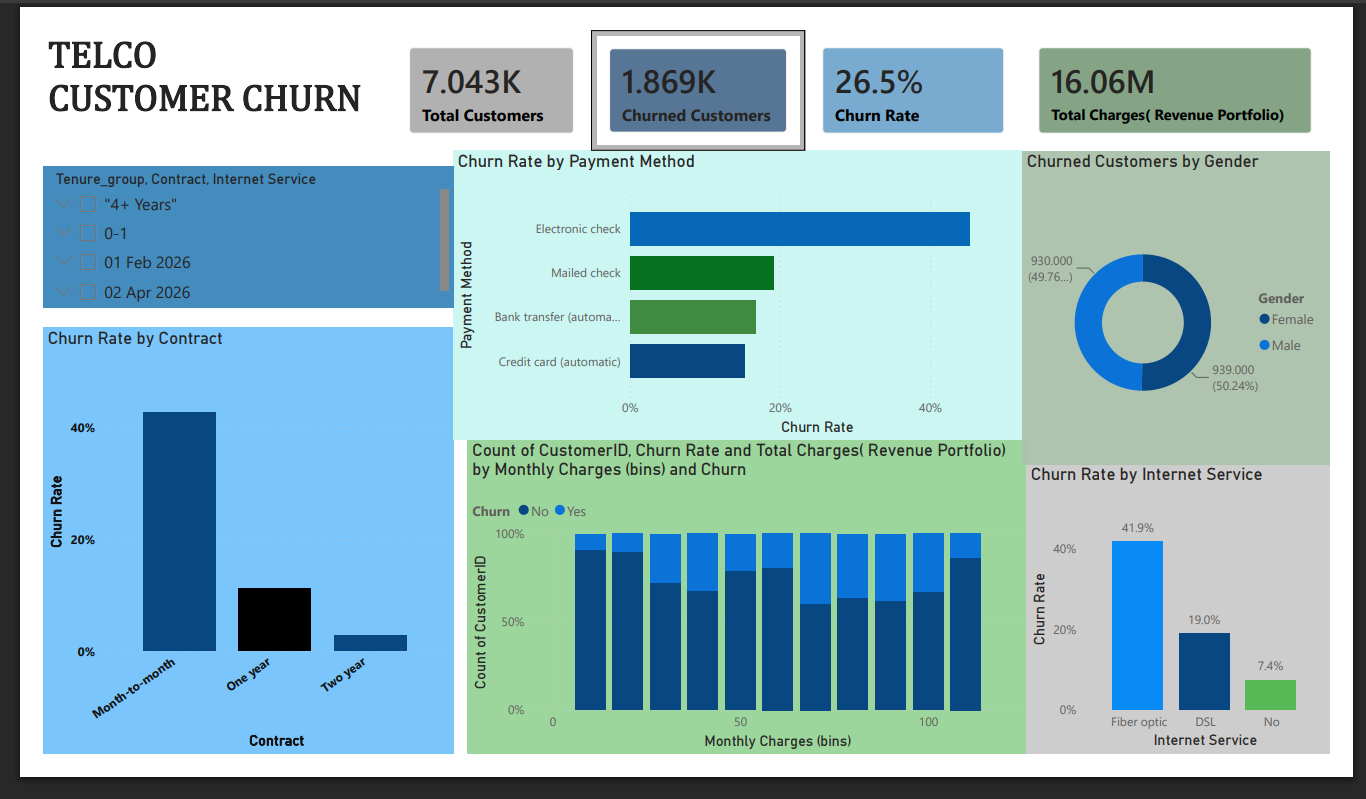

The dashboard page shown, as its layout file describes it:
{"tool":"powerbi","page":{"name":"Page 1","canvas":[1280,720],"ordinal":0},"visuals":[{"type":"cardVisual","fields":{"Data":["Telco Data.Total Customers"]},"box":[346.7,0,198.3,120],"z":0},{"type":"cardVisual","fields":{"Data":["Telco Data.Churn Rate"]},"box":[758.3,0,215,120],"z":1000},{"type":"cardVisual","fields":{"Data":["Telco Data.Total Charges( Revenue Portfolio)"]},"box":[973.3,0,306.7,120],"z":2000},{"type":"clusteredColumnChart","fields":{"Category":["Telco Data.Internet Service"],"Y":["Telco Data.Churn Rate"]},"box":[978,432,302,288],"z":3000},{"type":"hundredPercentStackedColumnChart","fields":{"Category":["Telco Data.Monthly Charges (bins)"],"Series":["Telco Data.Churn"],"Y":["CountNonNull(Telco Data.CustomerID)"]},"box":[422,408,556,312],"z":4000},{"type":"donutChart","fields":{"Category":["Telco Data.Gender"],"Y":["Telco Data.Churned Customers"]},"box":[974,120,306,312],"z":5000},{"type":"clusteredColumnChart","fields":{"Category":["Telco Data.Contract"],"Y":["Telco Data.Churn Rate"]},"box":[0,297.1,408.4,423.1],"z":6000},{"type":"clusteredBarChart","fields":{"Category":["Telco Data.Payment Method"],"Y":["Telco Data.Churn Rate"]},"box":[408,120,566,288],"z":7000},{"type":"slicer","fields":{"Values":["Telco Data.Tenure_group","Telco Data.Contract","Telco Data.Internet Service"]},"box":[0,134.5,408.4,162.6],"z":8000},{"type":"cardVisual","fields":{"Data":["Telco Data.Churned Customers"]},"box":[545,0,213.3,120],"z":9000},{"type":"textbox","box":[0,0,346,134],"z":10000}]}

Visuals, with their boxes on the page's 1280x720 design canvas (x1, y1, x2, y2). These are canvas units, not pixel positions in the 1366x799 screenshot, which may show the page scaled, cropped or inside an application window:
cardVisual - Telco Data.Total Customers: {"x1": 347, "y1": 0, "x2": 545, "y2": 120}
cardVisual - Telco Data.Churn Rate: {"x1": 758, "y1": 0, "x2": 973, "y2": 120}
cardVisual - Telco Data.Total Charges( Revenue Portfolio): {"x1": 973, "y1": 0, "x2": 1280, "y2": 120}
clusteredColumnChart - Telco Data.Internet Service x Telco Data.Churn Rate: {"x1": 978, "y1": 432, "x2": 1280, "y2": 720}
hundredPercentStackedColumnChart - Telco Data.Monthly Charges (bins) x Telco Data.Churn: {"x1": 422, "y1": 408, "x2": 978, "y2": 720}
donutChart - Telco Data.Gender x Telco Data.Churned Customers: {"x1": 974, "y1": 120, "x2": 1280, "y2": 432}
clusteredColumnChart - Telco Data.Contract x Telco Data.Churn Rate: {"x1": 0, "y1": 297, "x2": 408, "y2": 720}
clusteredBarChart - Telco Data.Payment Method x Telco Data.Churn Rate: {"x1": 408, "y1": 120, "x2": 974, "y2": 408}
slicer - Telco Data.Tenure_group x Telco Data.Contract: {"x1": 0, "y1": 134, "x2": 408, "y2": 297}
cardVisual - Telco Data.Churned Customers: {"x1": 545, "y1": 0, "x2": 758, "y2": 120}
textbox: {"x1": 0, "y1": 0, "x2": 346, "y2": 134}
